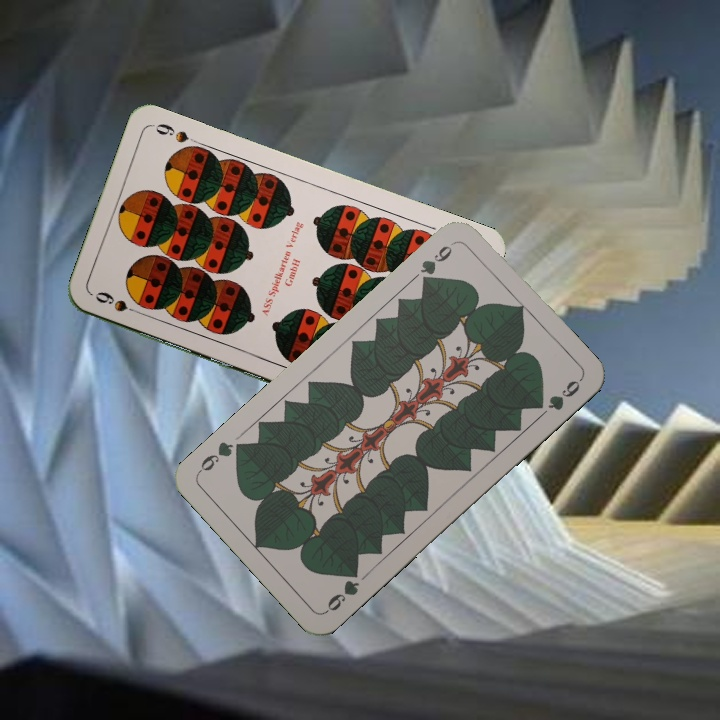G9: (410, 238, 458, 288), (321, 564, 362, 616)
S9: (91, 289, 147, 319)
